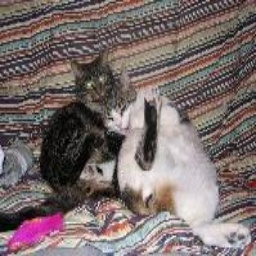cat: (41, 56, 252, 245)
